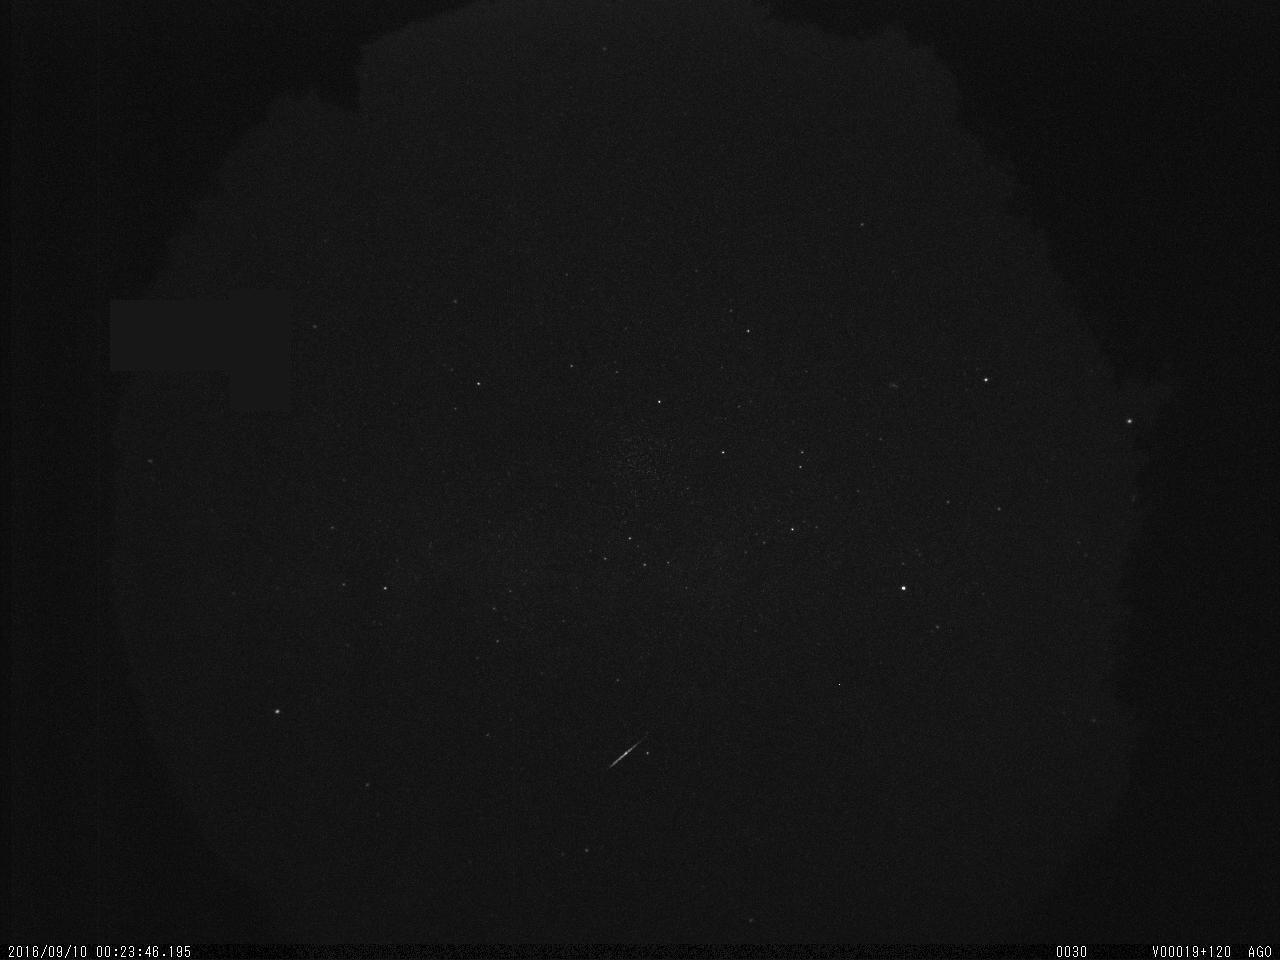meteor: (593, 723, 659, 779)
